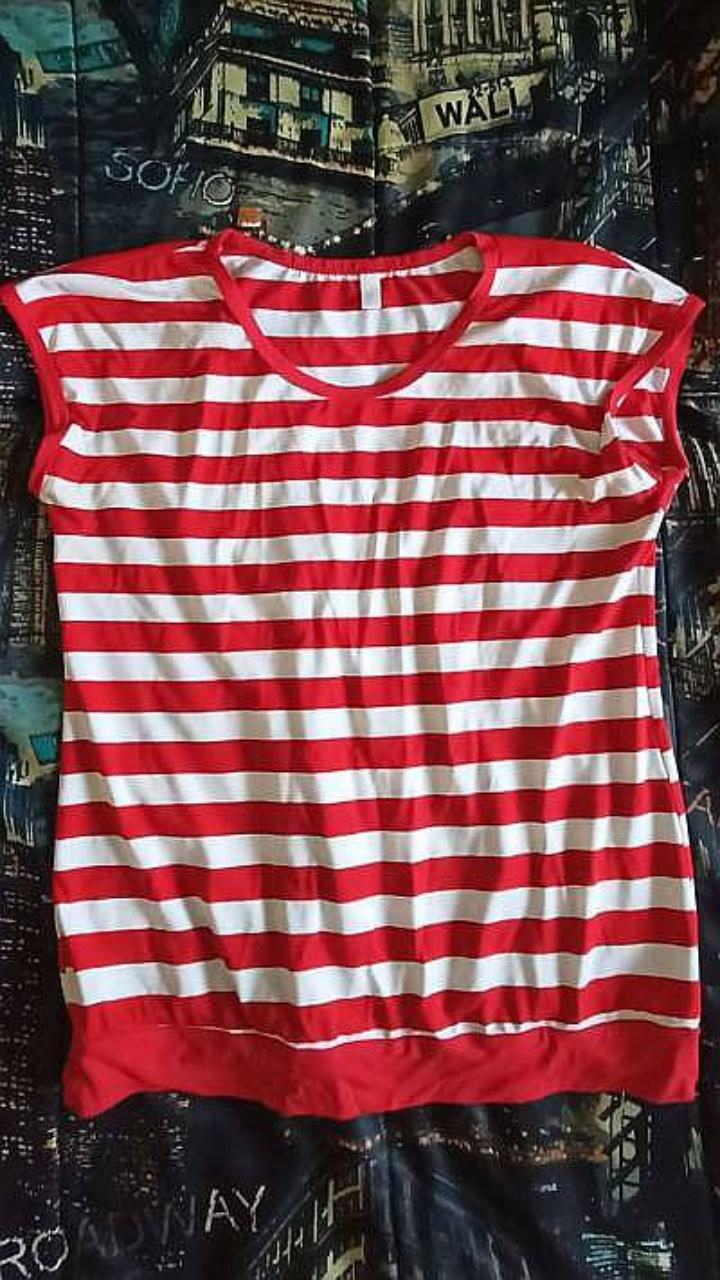T-Shirt: (0, 228, 704, 1117)
